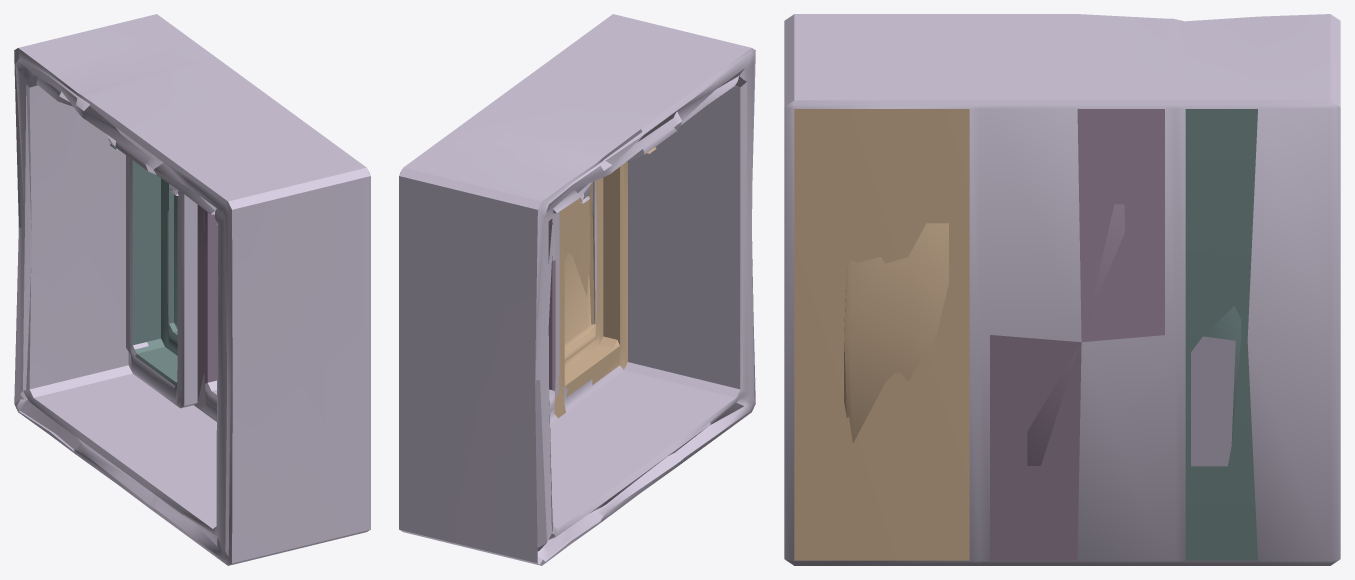
The model's file is PRP_FuseBox.fbx.
3 views of the same model, side by side, from view 1: azimuth 30°, elevation 25°; view 2: azimuth 150°, elevation 25°; view 3: azimuth 270°, elevation 25° (orthographic). The views are drawn at different scales.
Parts seen in each view (by area): view 1: Cube; view 2: Cube; view 3: Cube.
Part boxes in pixels (bbox=[...]): Cube: bbox=[14, 14, 370, 565]; Cube: bbox=[399, 14, 755, 565]; Cube: bbox=[784, 14, 1340, 565].
Size of the model in its own units: 0.5235 by 1.17 by 1.26.
